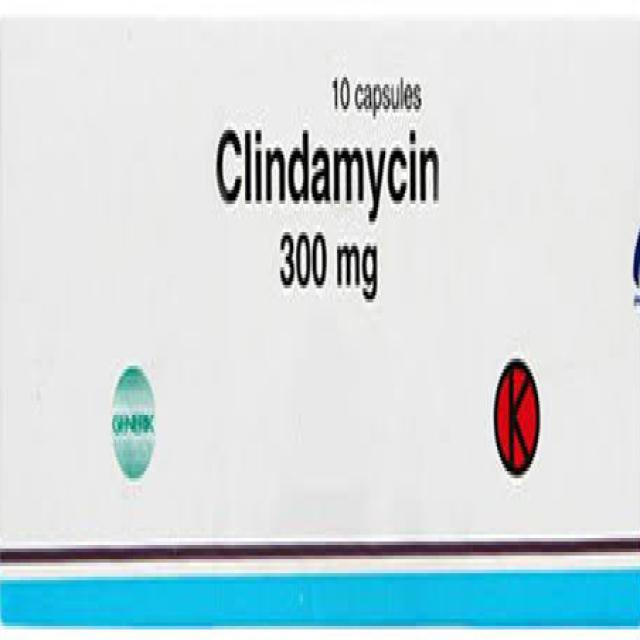drug-name: (208, 123, 446, 234)
